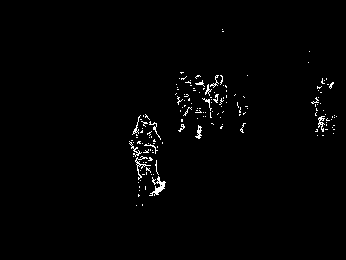person: (128, 114, 165, 197), (207, 73, 227, 131), (192, 73, 206, 138), (176, 71, 189, 131)
